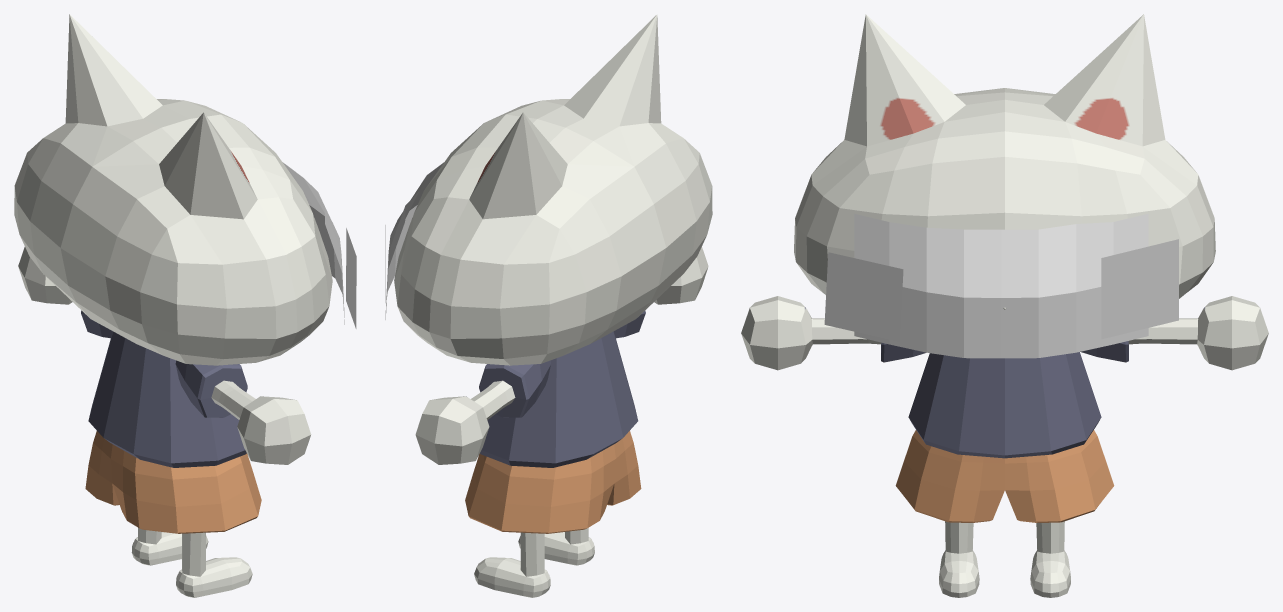
The model's file is napcat3.fbx.
3 renders of one model, left to right at view 1: azimuth 30°, elevation 25°; view 2: azimuth 150°, elevation 25°; view 3: azimuth 270°, elevation 25°, orthographic. The views are drawn at different scales.
Visible parts, largest first — view 1: Head, Leg, Body, LArm.001, face, RArm, blursher.001; view 2: Head, Leg, Body, RArm, LArm.001, face; view 3: Head, face, Leg, Body, blursher, RArm, LArm.001, blursher.001.
Boxes of the visible parts, x1,y1,x2,y2 form: Head: [14, 14, 332, 365]; Leg: [85, 431, 261, 597]; Body: [88, 331, 246, 467]; LArm.001: [175, 360, 311, 464]; face: [282, 162, 344, 324]; RArm: [18, 247, 112, 338]; blursher.001: [346, 228, 356, 328]; Head: [394, 14, 712, 365]; Leg: [465, 431, 641, 597]; Body: [480, 331, 638, 467]; RArm: [415, 360, 550, 464]; LArm.001: [614, 247, 708, 338]; face: [385, 162, 443, 319]; Head: [794, 14, 1215, 309]; face: [854, 213, 1148, 358]; Leg: [895, 430, 1114, 597]; Body: [908, 352, 1101, 458]; blursher: [1101, 239, 1178, 339]; RArm: [1080, 296, 1268, 370]; LArm.001: [741, 296, 926, 370]; blursher.001: [824, 252, 903, 341].
Size of the model in its own units: 89.12 by 174 by 154.
Materials: 5 (3 with a texture image).
